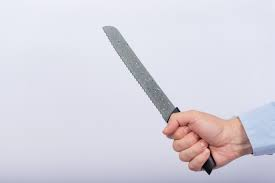knife: (95, 17, 224, 177)
